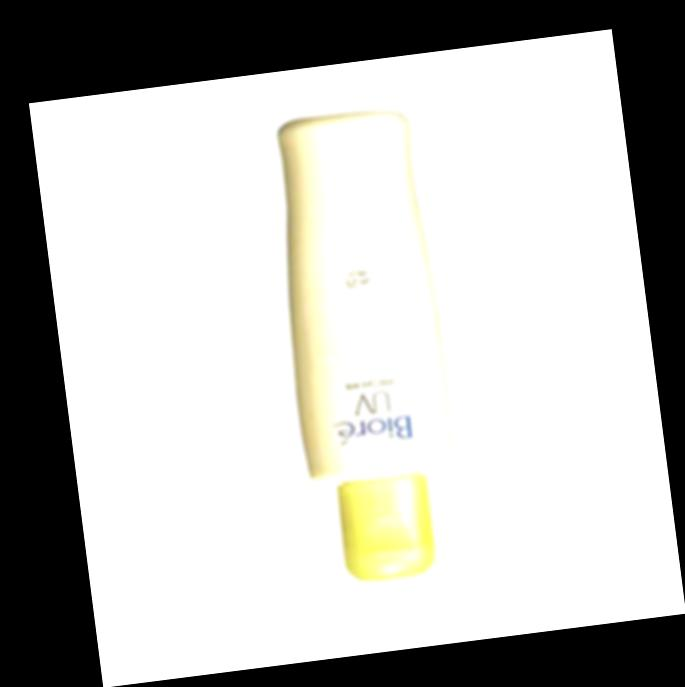cosmetic: (262, 104, 471, 592)
